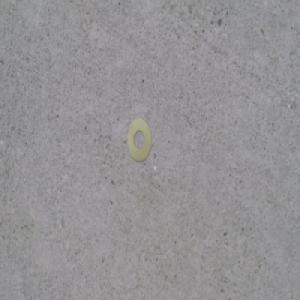Washer: (126, 119, 152, 164)
